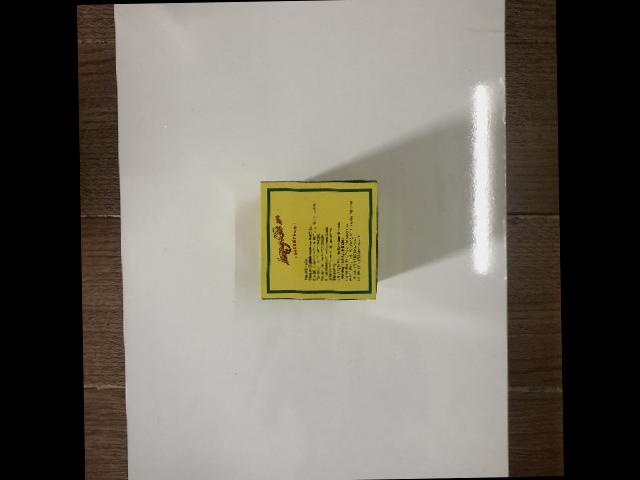luong_kho: (258, 178, 377, 301)
